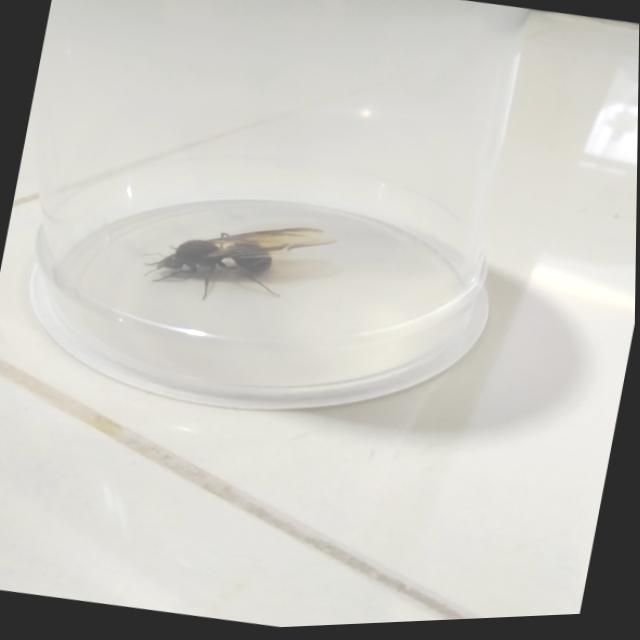Alive-Female-Alate: (134, 201, 341, 325)
